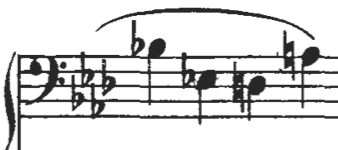bass_clef: (25, 48, 69, 107)
flat: (99, 51, 118, 100), (78, 44, 97, 91), (69, 70, 87, 112), (89, 79, 105, 122)
